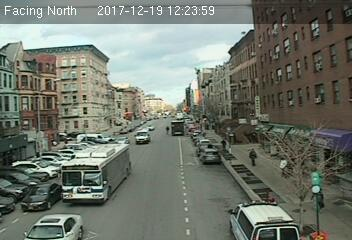bus: (60, 143, 130, 203)
car: (23, 213, 80, 240), (19, 183, 64, 209), (202, 149, 221, 164)
pedestrian: (248, 148, 258, 170)
police: (226, 199, 302, 240)
truck: (135, 128, 151, 146)
ups: (171, 120, 185, 136)
